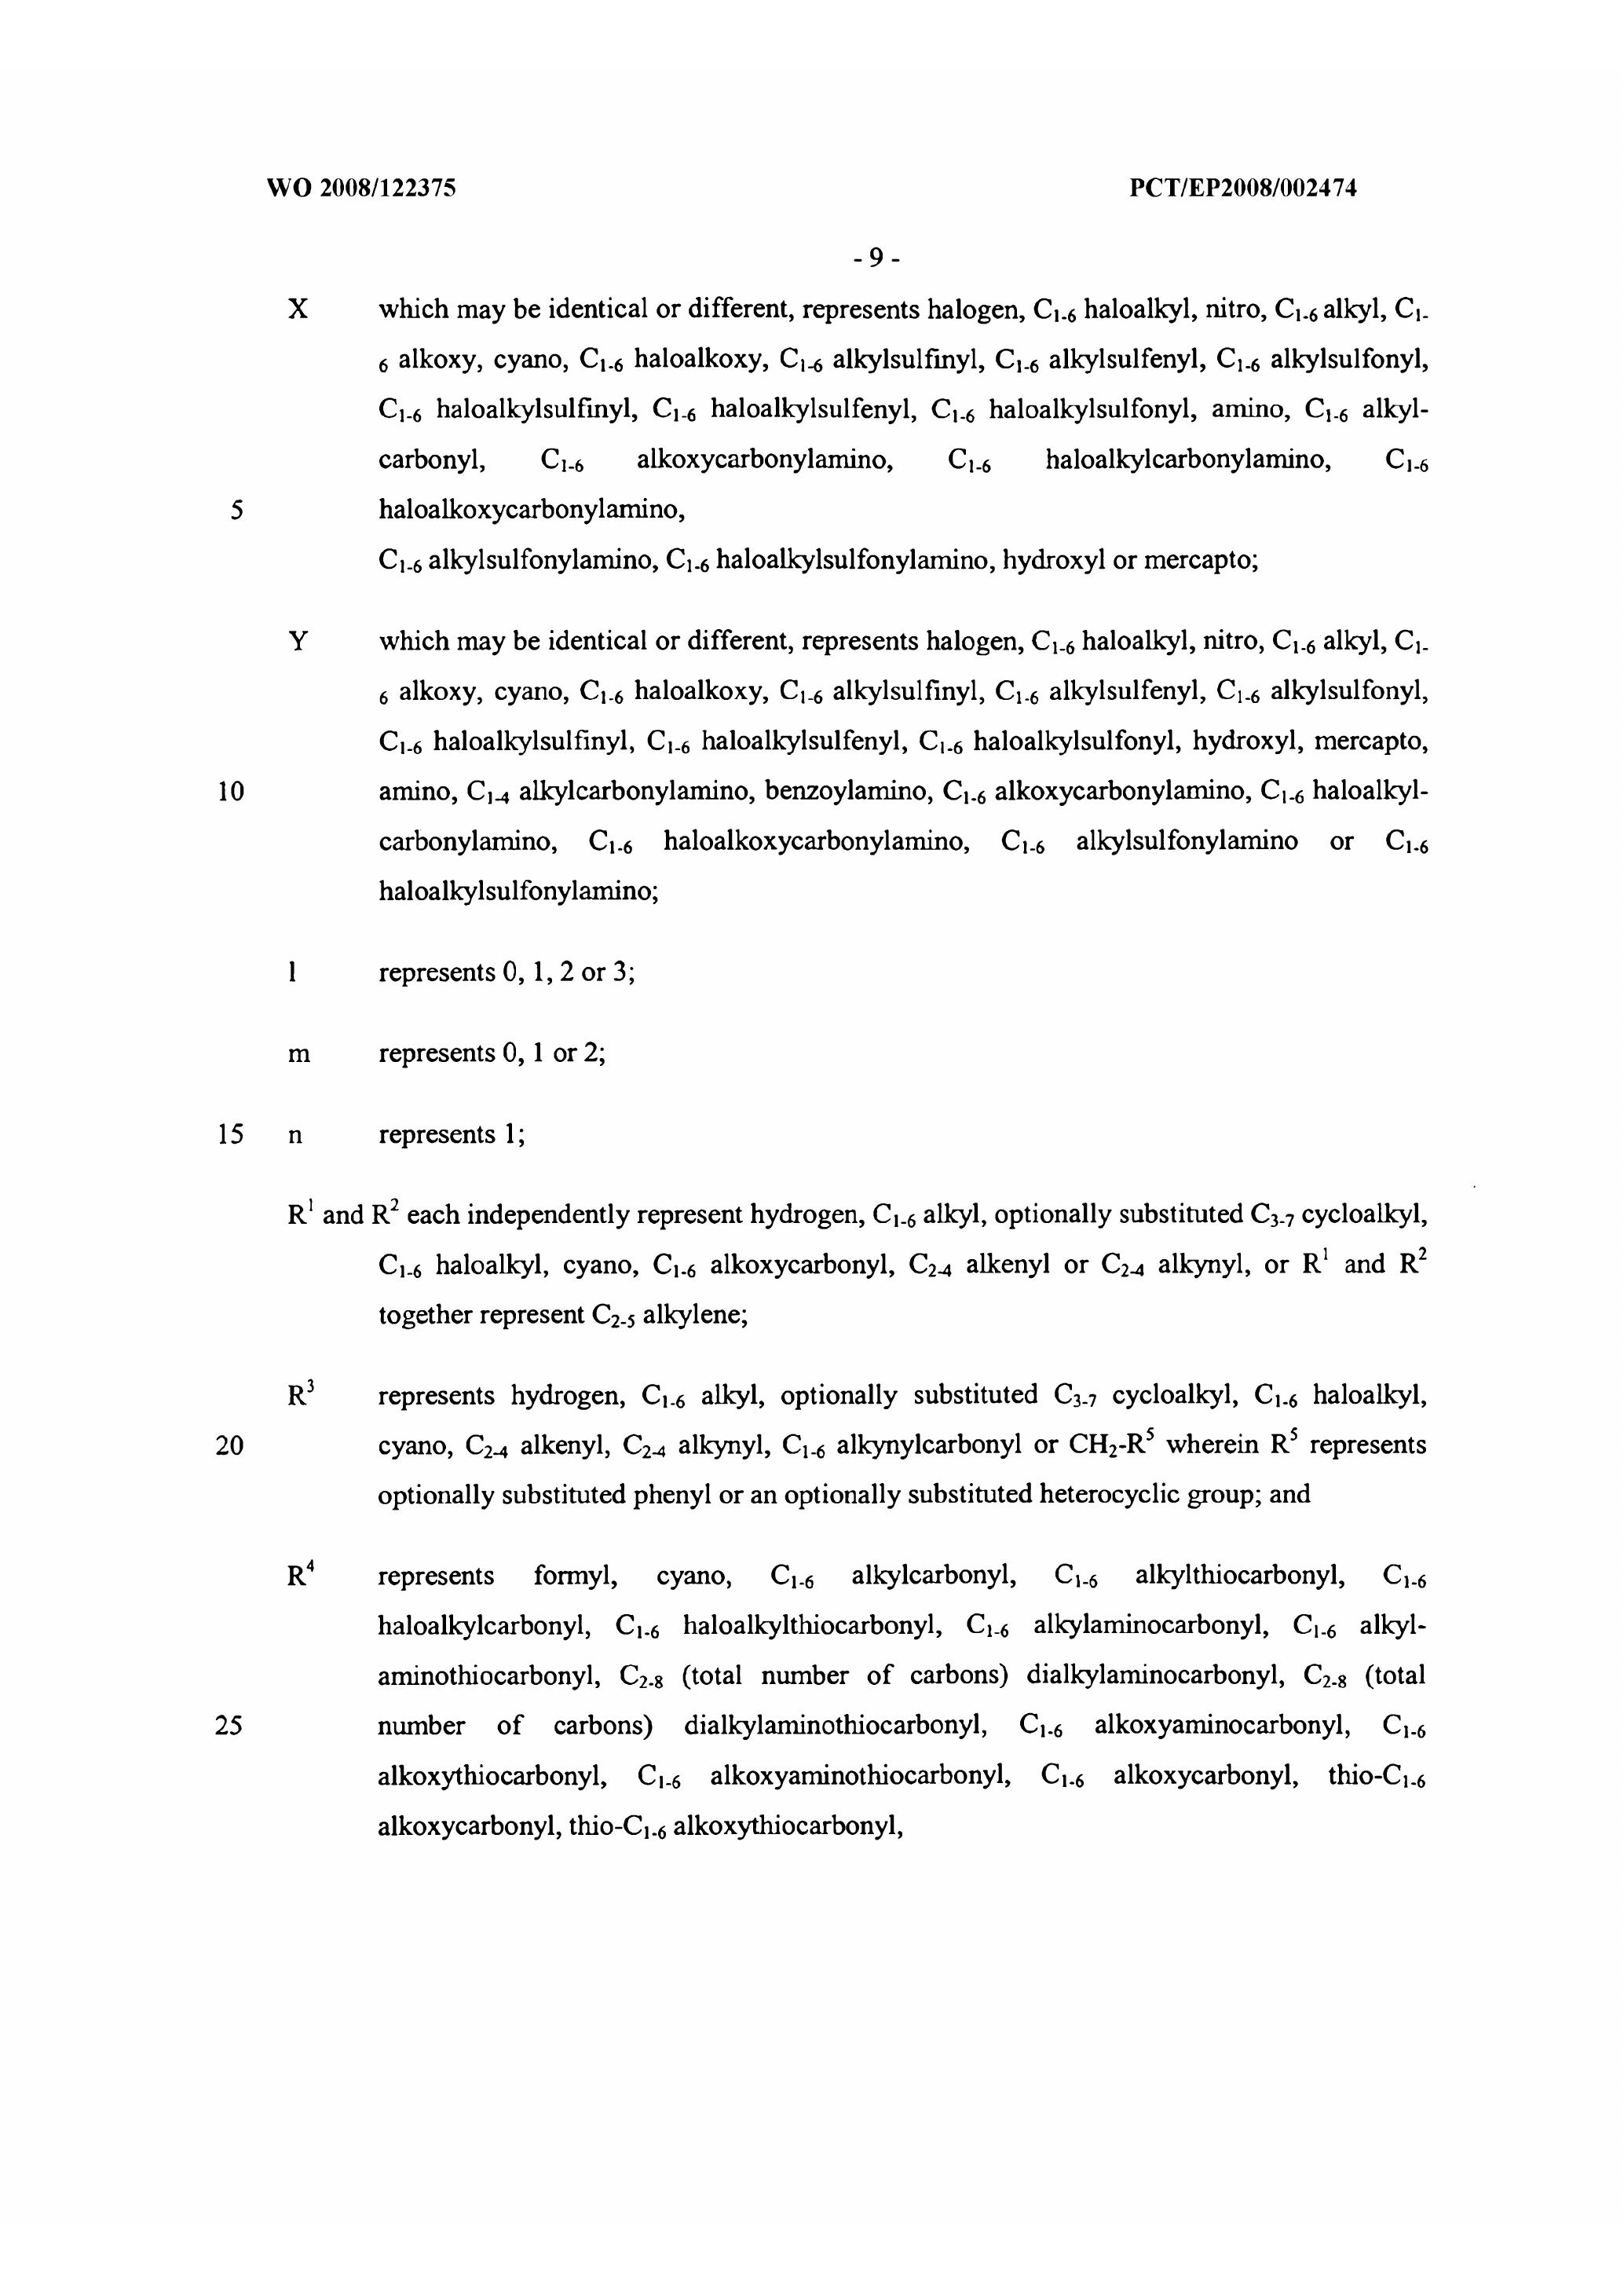substitutes: (257, 1174, 1522, 1531)
